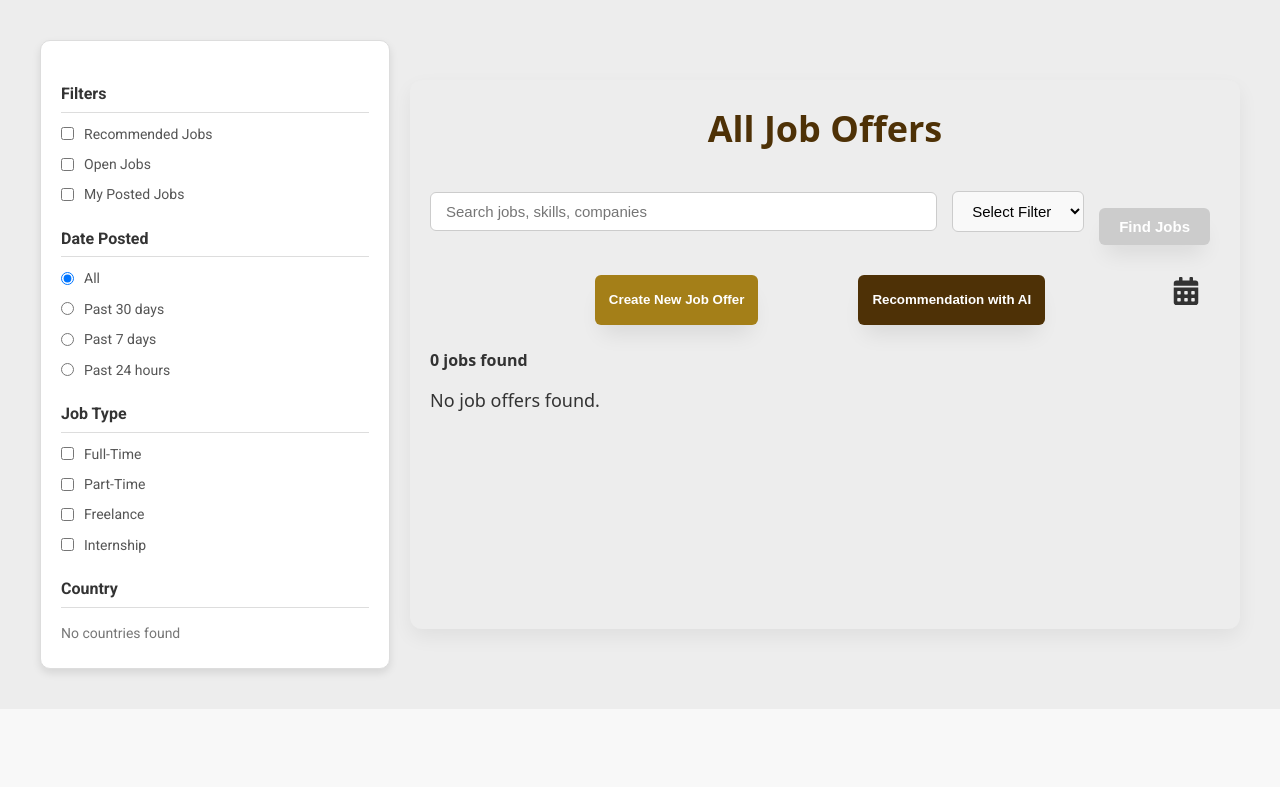
Test: AllJobOffers Component › applies date filter for "Past 30 days" correctly
The image size is (1280, 787).
Click the radio button labelled "Past 30 days" at (68, 309), box [61,302,74,315]
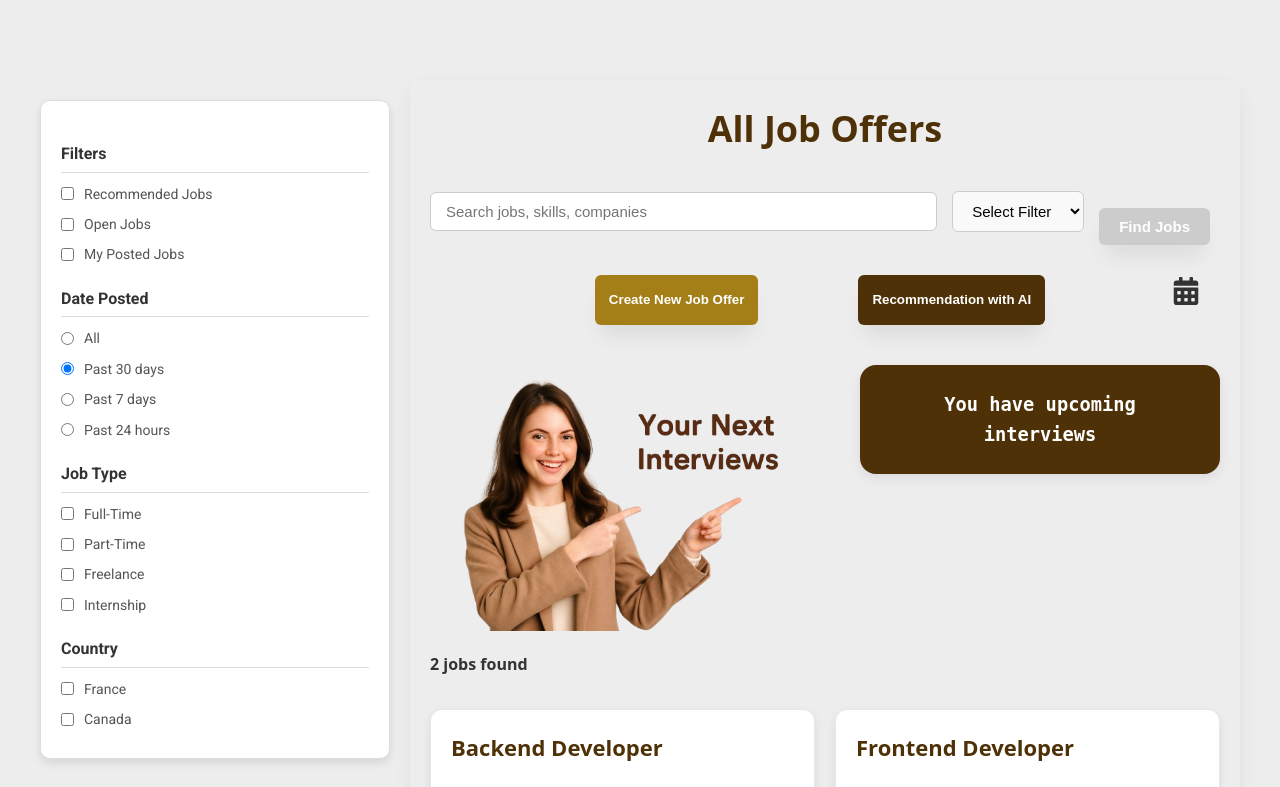
expect the heading "Frontend Developer" is shown: met, box [856,732,1074,762]
expect the heading "Backend Developer" is shown: met, box [451,732,663,762]
